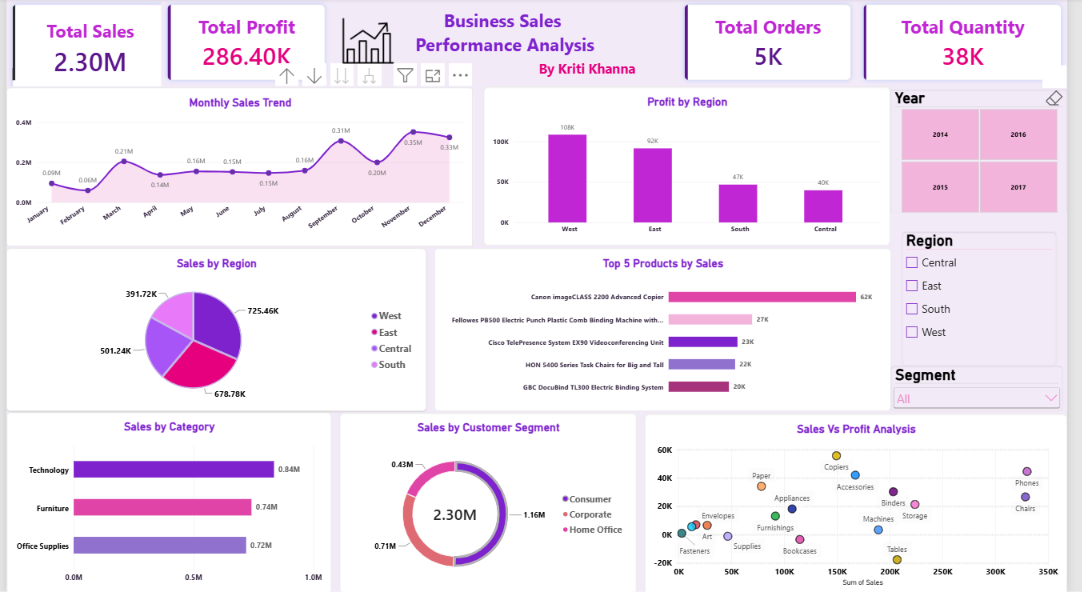

The page's visual inventory and layout, read from the dashboard file:
{"tool":"powerbi","page":{"name":"Page 1","canvas":[1920,1080],"ordinal":0},"visuals":[{"type":"cardVisual","fields":{"Data":["Sample - Superstore.Total Sales"]},"box":[0,0,280.5,159.3],"z":0},{"type":"cardVisual","fields":{"Data":["Sample - Superstore.Total Profit"]},"box":[280.5,0,307.6,159.3],"z":1000},{"type":"cardVisual","fields":{"Data":["Sample - Superstore.Total Orders"]},"box":[1216.1,0,323.9,159.3],"z":2000},{"type":"cardVisual","fields":{"Data":["Sample - Superstore.Total Quantity"]},"box":[1540,0,380,159.3],"z":3000},{"type":"clusteredBarChart","title":"Sales by Category","fields":{"Category":["Sample - Superstore.Category"],"Y":["Sum(Sample - Superstore.Sales)"]},"box":[0,747.1,588.5,331.8],"z":4000},{"type":"pieChart","title":"Sales by Region","fields":{"Category":["Sample - Superstore.Region"],"Y":["Sum(Sample - Superstore.Sales)"]},"box":[0,452.9,759.7,294.3],"z":5000},{"type":"donutChart","title":"Sales by Customer Segment","fields":{"Category":["Sample - Superstore.Segment"],"Y":["Sum(Sample - Superstore.Sales)"]},"box":[603.1,749.2,538.4,329.7],"z":6000},{"type":"clusteredBarChart","title":"Top 5 Products by Sales","fields":{"Category":["Sample - Superstore.Product Name"],"Y":["Sum(Sample - Superstore.Sales)"]},"box":[774.3,452.9,826.4,294.3],"z":7000},{"type":"lineChart","title":"Monthly Sales Trend","fields":{"Category":["Sample - Superstore.Order Date.Variation.Date Hierarchy.Year","Sample - Superstore.Order Date.Variation.Date Hierarchy.Month"],"Y":["Sum(Sample - Superstore.Sales)"]},"box":[0,160.7,845.2,288],"z":8000},{"type":"clusteredColumnChart","title":"Profit by Region","fields":{"Category":["Sample - Superstore.Region"],"Y":["Sample - Superstore.Total Profit"]},"box":[864,158.6,736.7,288],"z":9000},{"type":"scatterChart","title":"Sales Vs Profit Analysis","fields":{"Category":["Sample - Superstore.Sub-Category"],"X":["Sum(Sample - Superstore.Sales)"],"Y":["Sum(Sample - Superstore.Profit)"]},"box":[1154.6,751,765.9,329.7],"z":10000},{"type":"slicer","fields":{"Values":["Sample - Superstore.Order Date.Variation.Date Hierarchy.Year"]},"box":[1600,164.8,320.4,224.1],"z":11000},{"type":"slicer","fields":{"Values":["Sample - Superstore.Region"]},"box":[1619.5,421.6,281.7,244.2],"z":12000},{"type":"slicer","fields":{"Values":["Sample - Superstore.Segment"]},"box":[1600,664.8,313,83.3],"z":13000},{"type":"textbox","box":[588.1,18.1,628,141.2],"z":14000},{"type":"textbox","box":[633.4,110.4,582.7,48.9],"z":15000},{"type":"image","box":[586.3,18.1,137.5,117.6],"z":16000}]}

Visuals, with their boxes in screenshot pixels (x1, y1, x2, y2), scaled from the page's 1920x1080 canvas onto the 1082x592 screenshot:
cardVisual - Sample - Superstore.Total Sales: {"x1": 0, "y1": 0, "x2": 158, "y2": 87}
cardVisual - Sample - Superstore.Total Profit: {"x1": 158, "y1": 0, "x2": 331, "y2": 87}
cardVisual - Sample - Superstore.Total Orders: {"x1": 685, "y1": 0, "x2": 868, "y2": 87}
cardVisual - Sample - Superstore.Total Quantity: {"x1": 868, "y1": 0, "x2": 1081, "y2": 87}
"Sales by Category" clusteredBarChart: {"x1": 0, "y1": 410, "x2": 332, "y2": 591}
"Sales by Region" pieChart: {"x1": 0, "y1": 248, "x2": 428, "y2": 410}
"Sales by Customer Segment" donutChart: {"x1": 340, "y1": 411, "x2": 643, "y2": 591}
"Top 5 Products by Sales" clusteredBarChart: {"x1": 436, "y1": 248, "x2": 902, "y2": 410}
"Monthly Sales Trend" lineChart: {"x1": 0, "y1": 88, "x2": 476, "y2": 246}
"Profit by Region" clusteredColumnChart: {"x1": 487, "y1": 87, "x2": 902, "y2": 245}
"Sales Vs Profit Analysis" scatterChart: {"x1": 651, "y1": 412, "x2": 1081, "y2": 591}
slicer - Sample - Superstore.Order Date.Variation.Date Hierarchy.Year: {"x1": 902, "y1": 90, "x2": 1081, "y2": 213}
slicer - Sample - Superstore.Region: {"x1": 913, "y1": 231, "x2": 1071, "y2": 365}
slicer - Sample - Superstore.Segment: {"x1": 902, "y1": 364, "x2": 1078, "y2": 410}
textbox: {"x1": 331, "y1": 10, "x2": 685, "y2": 87}
textbox: {"x1": 357, "y1": 61, "x2": 685, "y2": 87}
image: {"x1": 330, "y1": 10, "x2": 408, "y2": 74}
